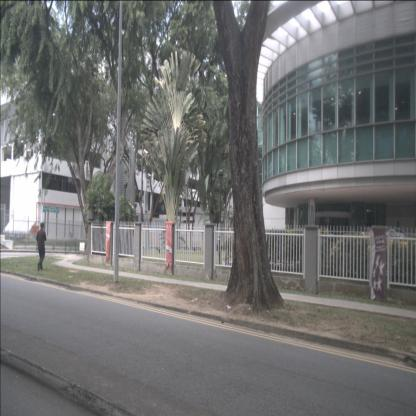human-pedestrian-adult: (36, 223, 46, 272)
